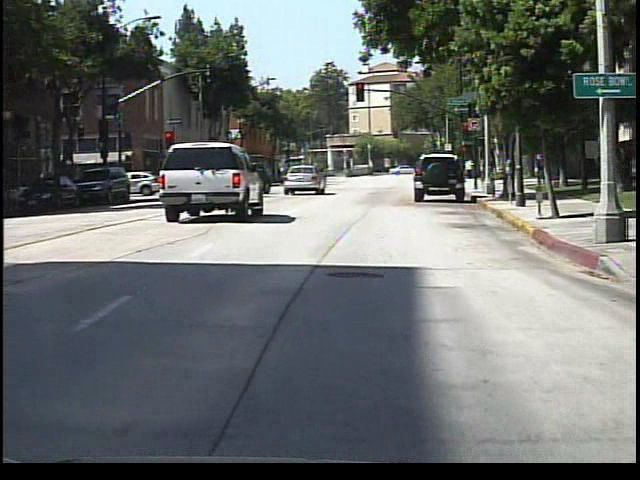person: (313, 157, 334, 194), (533, 153, 549, 190), (466, 157, 475, 180)
